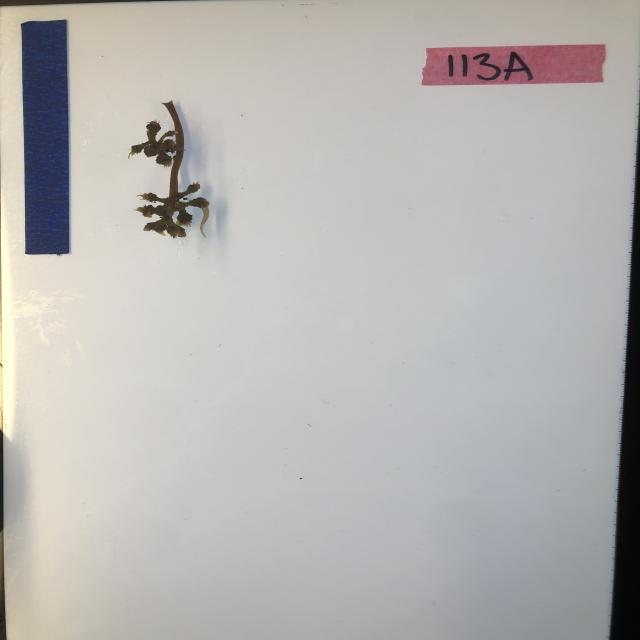index: (422, 42, 610, 88)
measure_label: (17, 17, 73, 258)
rachis_cluster: (126, 93, 223, 244)
